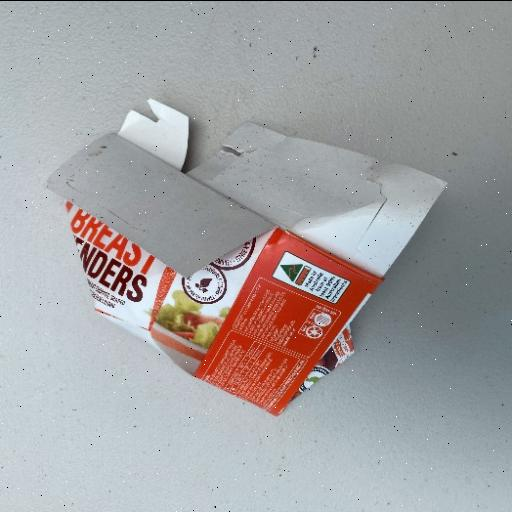Cardboard: (46, 104, 448, 418)
